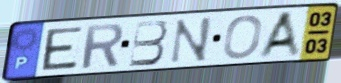A: (256, 9, 303, 59)
B: (127, 18, 169, 69)
E: (41, 25, 85, 72)
N: (167, 15, 214, 65)
O: (221, 13, 265, 60)
R: (80, 22, 125, 71)
